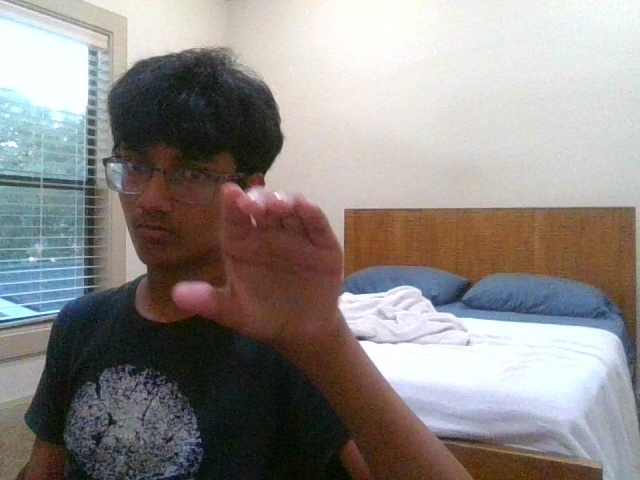no: (171, 182, 342, 338)
